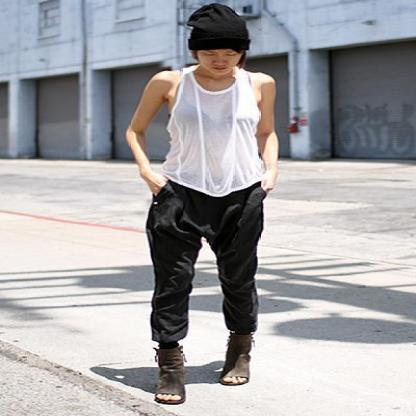hat: (185, 2, 259, 58)
pants: (146, 179, 272, 349)
shirt: (164, 65, 274, 196)
shoe: (145, 334, 254, 404)
